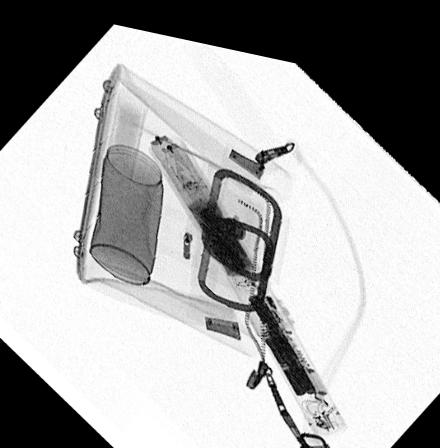Baton: (146, 125, 347, 423)
